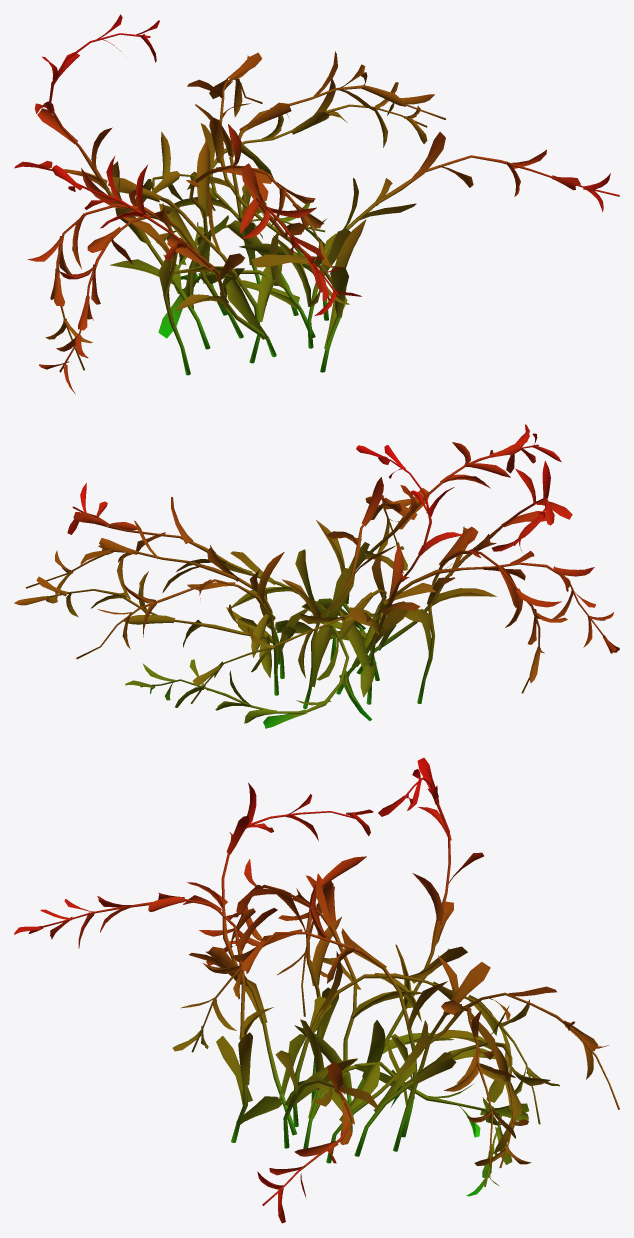
Rendered from Var11_LOD0.fbx.
The picture shows the model from 3 angles, top to bottom: view 1: azimuth 30°, elevation 25°; view 2: azimuth 150°, elevation 25°; view 3: azimuth 270°, elevation 25°; orthographic projection. The views are drawn at different scales.
Parts seen in each view (by area): view 1: _284x_Var11_LOD0; view 2: _284x_Var11_LOD0; view 3: _284x_Var11_LOD0.
Part boxes in pixels (x1,y1,x2,y2): _284x_Var11_LOD0: (14, 14, 619, 394); _284x_Var11_LOD0: (14, 424, 619, 728); _284x_Var11_LOD0: (14, 757, 619, 1223).
Bounding box in the file's own units: 34.44 × 18.21 × 30.5.
